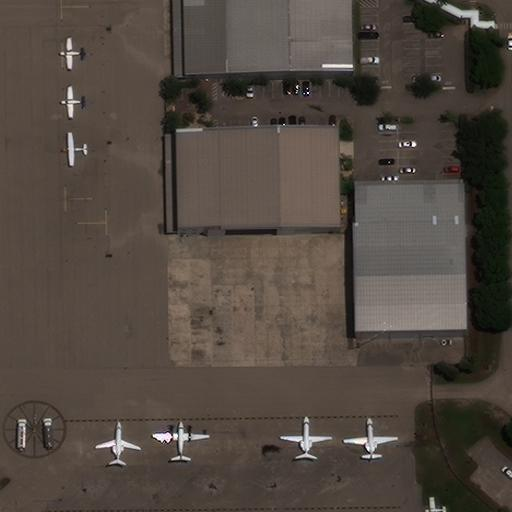Medium Civil Transport: (343, 417, 396, 460), (152, 421, 208, 460)
Small Civil Transport: (281, 415, 330, 458), (95, 421, 139, 464), (59, 38, 86, 69), (61, 133, 87, 165), (60, 87, 85, 118), (424, 498, 446, 511)
